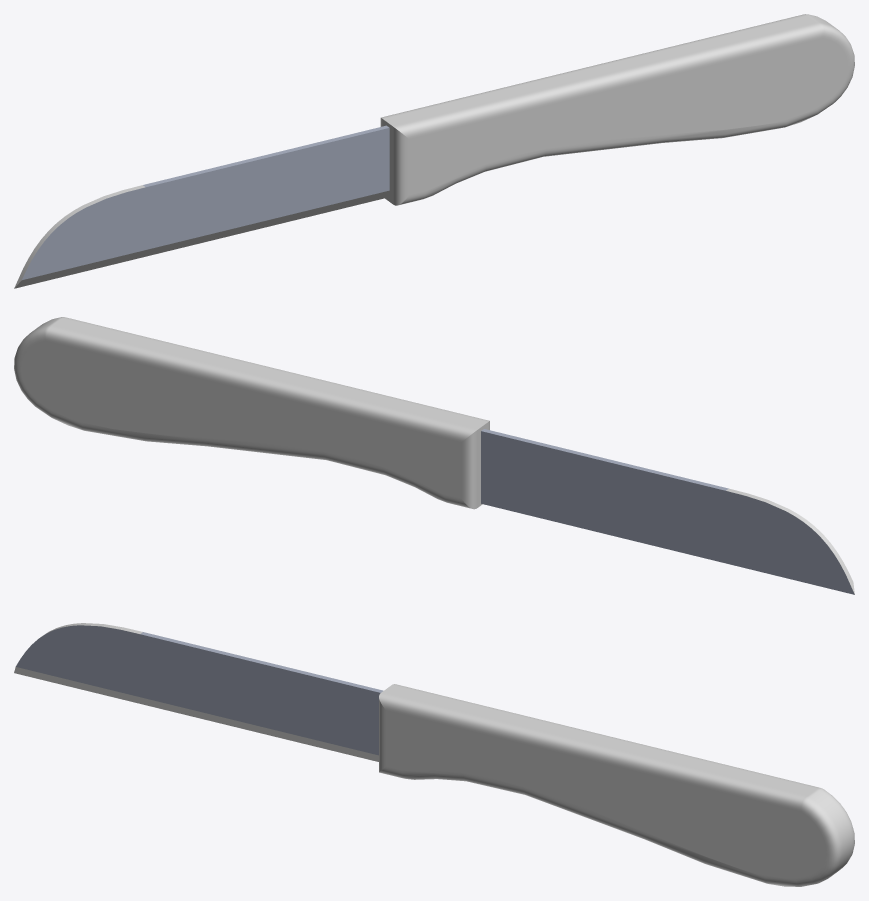
3 views of the same model, one above another, from view 1: azimuth 30°, elevation 25°; view 2: azimuth 150°, elevation 25°; view 3: azimuth 330°, elevation 25° (orthographic).
Visible parts, largest first — view 1: knife-by-gharselleoui-ahmed.001, knife-by-gharselleoui-ahmed-1.001; view 2: knife-by-gharselleoui-ahmed.001, knife-by-gharselleoui-ahmed-1.001; view 3: knife-by-gharselleoui-ahmed.001, knife-by-gharselleoui-ahmed-1.001.
Part boxes in pixels (x1,y1,x2,y2): knife-by-gharselleoui-ahmed.001: (14, 14, 854, 288); knife-by-gharselleoui-ahmed-1.001: (22, 125, 389, 279); knife-by-gharselleoui-ahmed.001: (14, 317, 854, 594); knife-by-gharselleoui-ahmed-1.001: (481, 429, 854, 594); knife-by-gharselleoui-ahmed.001: (14, 623, 854, 886); knife-by-gharselleoui-ahmed-1.001: (15, 625, 383, 755).
Bounding box in the file's own units: 0.9384 × 0.1019 × 0.042.
